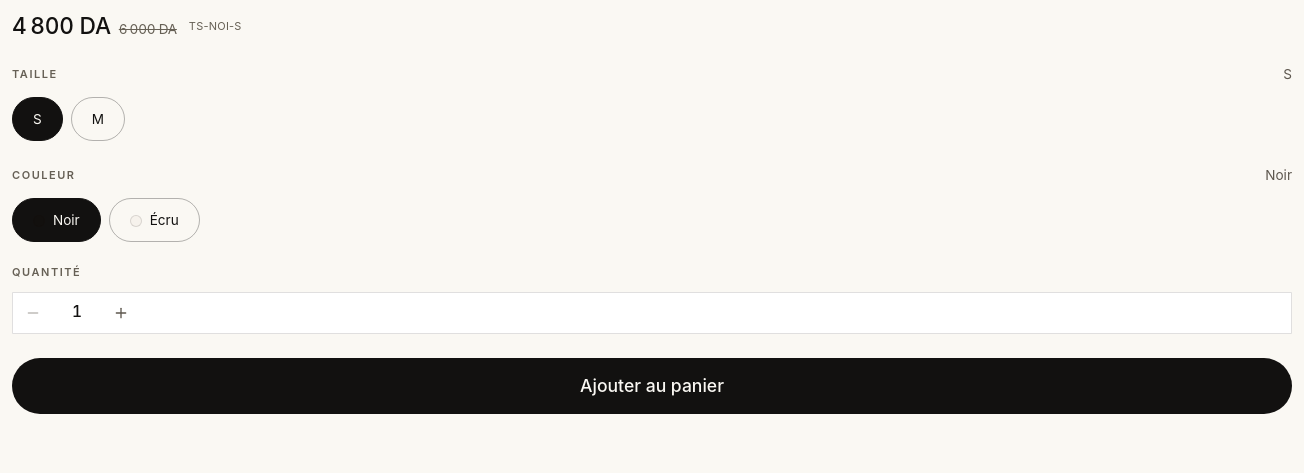
PurchasePanel › reports a combination that does not exist, at the action
Click the radio button labelled "Écru": (154,220) top-left (109, 198), bottom-right (200, 242)
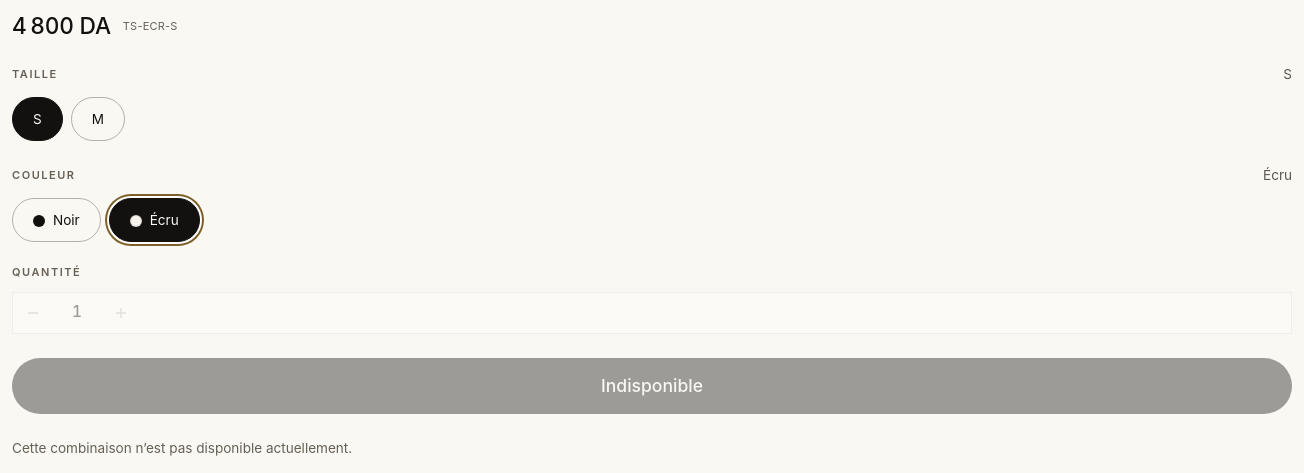
Expected: the button "Indisponible" is shown, top-left (12, 358), bottom-right (1292, 414)
Expected: the text "Cette combinaison n’est pas disponible actuellement." is shown, top-left (12, 440), bottom-right (352, 456)
